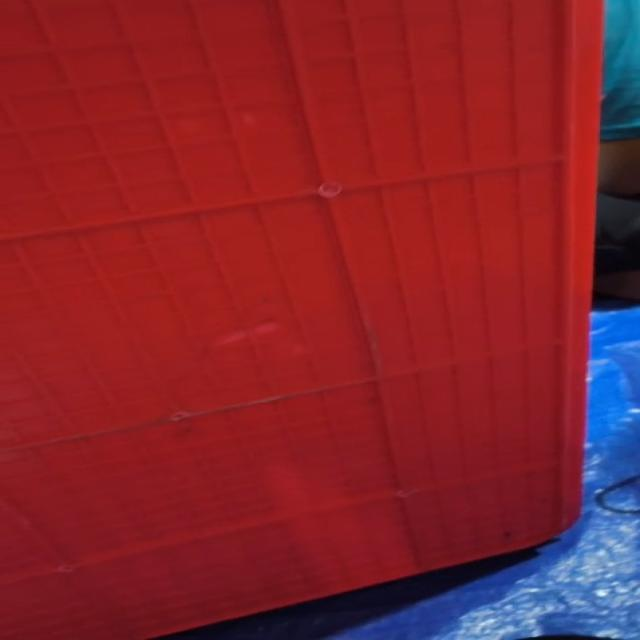red plastic box: (0, 0, 607, 639)
